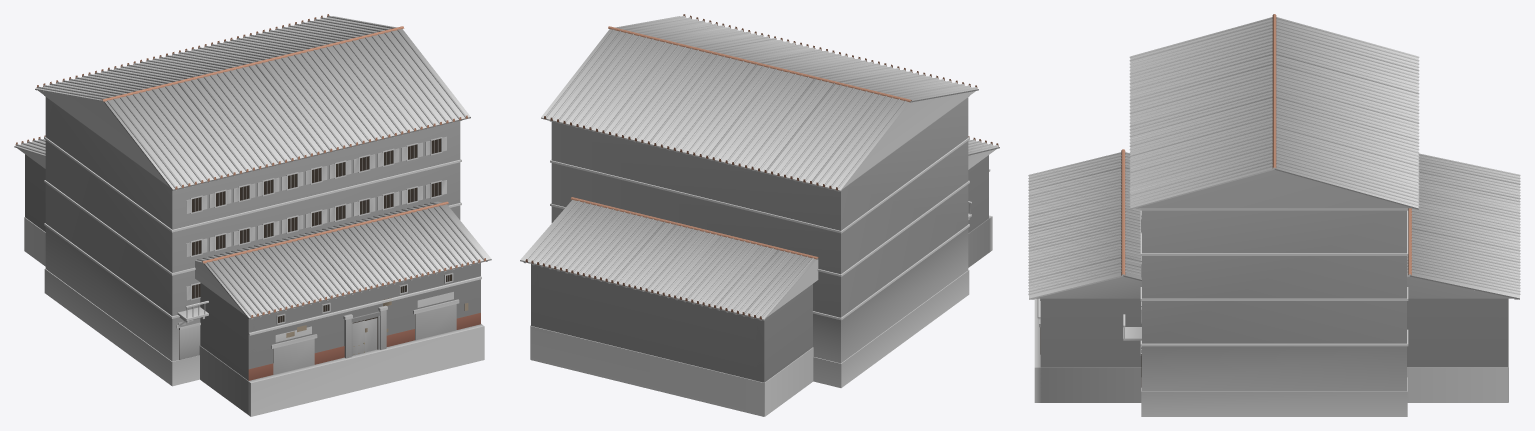
Rendered from edificios.glb.
3 views of the same model, side by side, from view 1: azimuth 30°, elevation 25°; view 2: azimuth 150°, elevation 25°; view 3: azimuth 270°, elevation 25° (orthographic). The views are drawn at different scales.
Visible parts, largest first — view 1: H2_insa_roof, H2_insa_plaster, H2_dom_roof, H2_dom_plaster, H2_dom_socle, H2_insa_brick, H2_insa_wood, H2_insa_misc, H2_insa_socle, H2_dom_misc, H2_dom_interior, H2_insa_stone (+7 smaller); view 2: H2_insa_roof, H2_insa_plaster, H2_dom_plaster, H2_dom_roof, H2_dom_socle, H2_insa_brick, H2_insa_socle, H2_insa_stone, H2_insa_wall, H2_insa_misc, H2_dom_misc, H2_dom_wall; view 3: H2_insa_roof, H2_insa_plaster, H2_dom_roof, H2_dom_plaster, H2_insa_brick, H2_dom_socle, H2_insa_socle, H2_insa_wall, H2_insa_stone, H2_dom_wall, H2_dom_misc, H2_insa_misc.
Part boxes in pixels (left/top/right/bottom): H2_insa_roof: left=35, top=15, right=470, bottom=190; H2_insa_plaster: left=45, top=97, right=460, bottom=316; H2_dom_roof: left=14, top=138, right=491, bottom=319; H2_dom_plaster: left=25, top=154, right=480, bottom=380; H2_dom_socle: left=24, top=217, right=484, bottom=416; H2_insa_brick: left=45, top=227, right=200, bottom=361; H2_insa_wood: left=175, top=120, right=461, bottom=329; H2_insa_misc: left=36, top=14, right=467, bottom=359; H2_insa_socle: left=44, top=268, right=199, bottom=386; H2_dom_misc: left=15, top=135, right=486, bottom=380; H2_dom_interior: left=273, top=304, right=456, bottom=374; H2_insa_stone: left=44, top=95, right=461, bottom=318; H2_insa_roof: left=541, top=16, right=978, bottom=191; H2_insa_plaster: left=551, top=97, right=968, bottom=317; H2_dom_plaster: left=531, top=155, right=988, bottom=382; H2_dom_roof: left=520, top=139, right=999, bottom=320; H2_dom_socle: left=530, top=215, right=992, bottom=416; H2_insa_brick: left=813, top=228, right=968, bottom=363; H2_insa_socle: left=813, top=270, right=969, bottom=387; H2_insa_stone: left=550, top=96, right=969, bottom=320; H2_insa_wall: left=844, top=91, right=975, bottom=187; H2_insa_misc: left=544, top=14, right=977, bottom=190; H2_dom_misc: left=525, top=136, right=998, bottom=319; H2_dom_wall: left=767, top=149, right=996, bottom=316; H2_insa_roof: left=1129, top=17, right=1419, bottom=209; H2_insa_plaster: left=1142, top=210, right=1406, bottom=343; H2_dom_roof: left=1028, top=152, right=1520, bottom=299; H2_dom_plaster: left=1037, top=298, right=1508, bottom=367; H2_insa_brick: left=1141, top=346, right=1406, bottom=391; H2_dom_socle: left=1034, top=298, right=1508, bottom=402; H2_insa_socle: left=1141, top=377, right=1407, bottom=416; H2_insa_wall: left=1136, top=170, right=1412, bottom=208; H2_insa_stone: left=1140, top=208, right=1408, bottom=346; H2_dom_wall: left=1035, top=276, right=1513, bottom=298; H2_dom_misc: left=1040, top=149, right=1411, bottom=354; H2_insa_misc: left=1141, top=14, right=1276, bottom=387.
Bounding box in the file's own units: 23.58 × 17.88 × 31.6.
